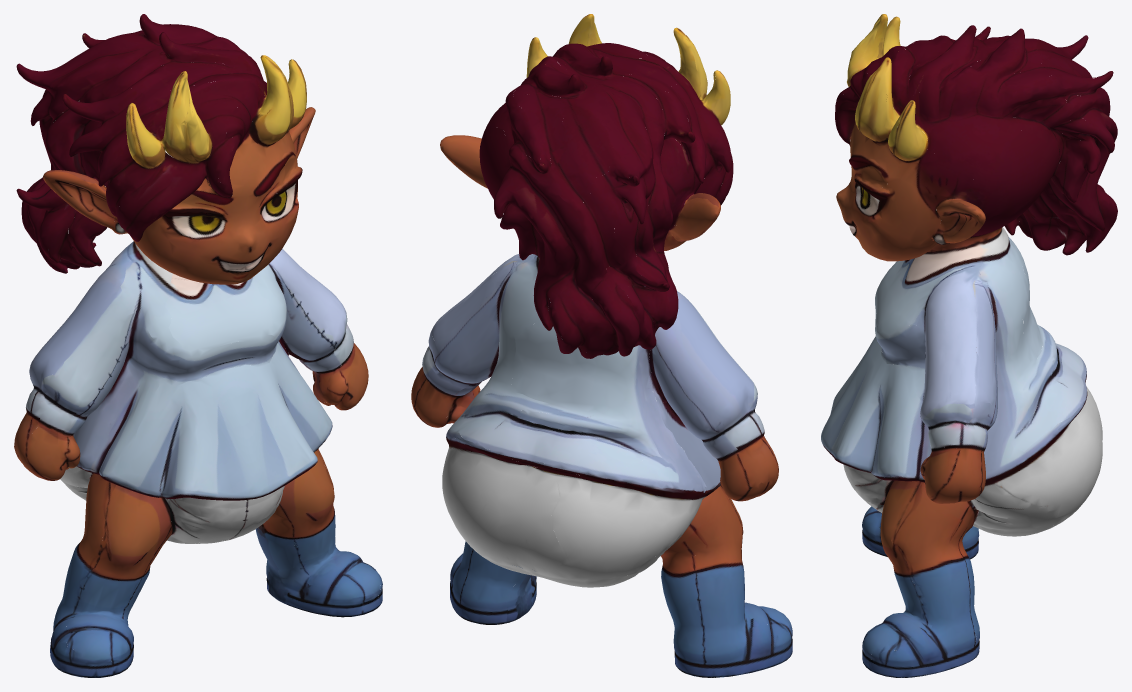
File: charla.glb
3 renders of one model, left to right at view 1: azimuth 30°, elevation 25°; view 2: azimuth 150°, elevation 25°; view 3: azimuth 270°, elevation 25°, orthographic. The views are drawn at different scales.
Visible parts, largest first — view 1: temp_mesh.ply; view 2: temp_mesh.ply; view 3: temp_mesh.ply.
Boxes of the visible parts, x1,y1,x2,y2 form: temp_mesh.ply: (14, 14, 382, 677); temp_mesh.ply: (411, 14, 792, 677); temp_mesh.ply: (821, 14, 1117, 677).
Size of the model in its own units: 1.22 by 1.95 by 0.9237.
1 material, 1 textured.
